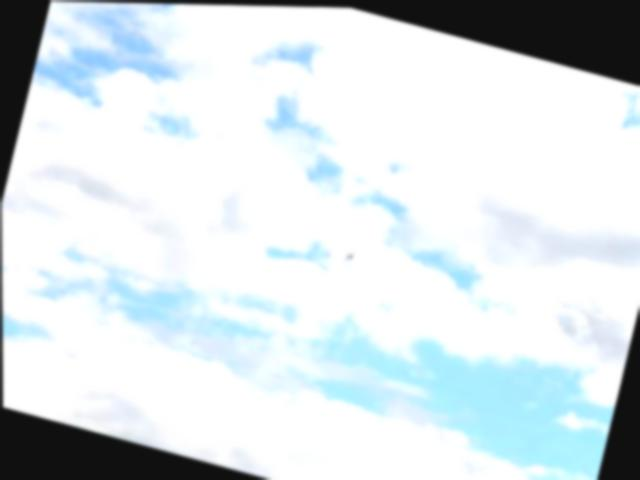uav: (341, 242, 358, 263)
